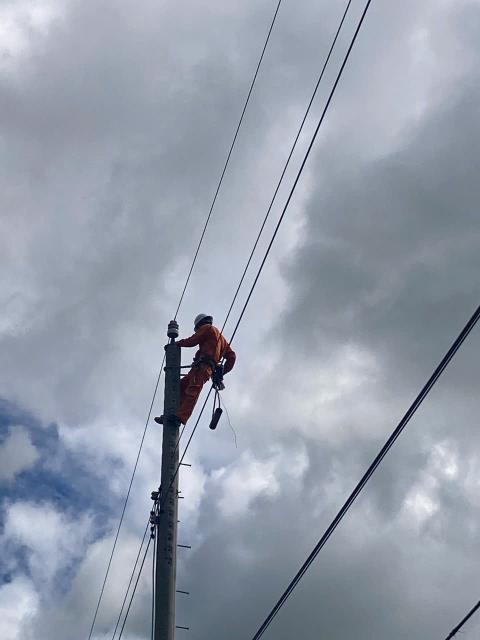harness: (180, 352, 227, 378)
helmet: (192, 310, 218, 328)
shoes: (162, 413, 187, 428), (148, 413, 167, 425)
